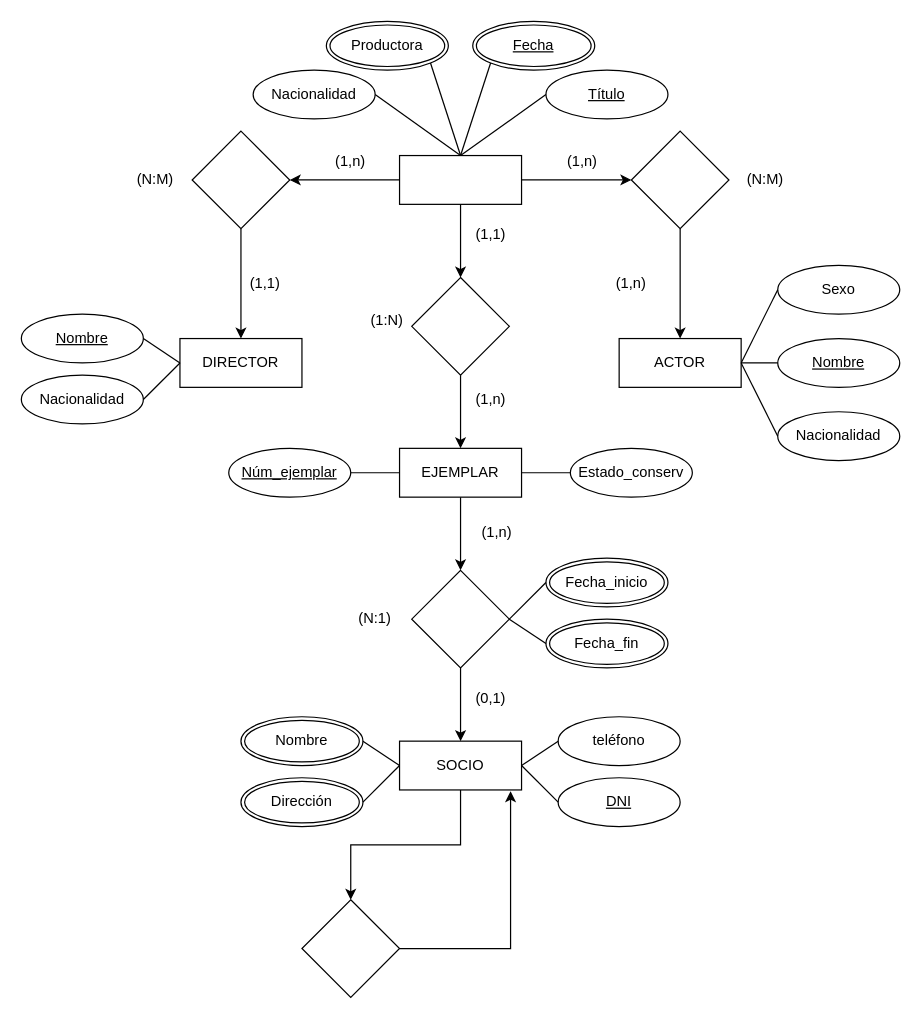
Image size: 921x1019. Some labels were removed from this diagram. The box of each missing label's shape, as (x1, y1, x2, y2) in pixels:
alquilada a: (411, 569, 509, 668)
dirigida por: (191, 130, 290, 229)
es avalado: (301, 899, 400, 997)
existen: (411, 276, 509, 375)
participan: (630, 130, 729, 229)
PELÍCULA: (398, 154, 522, 204)
